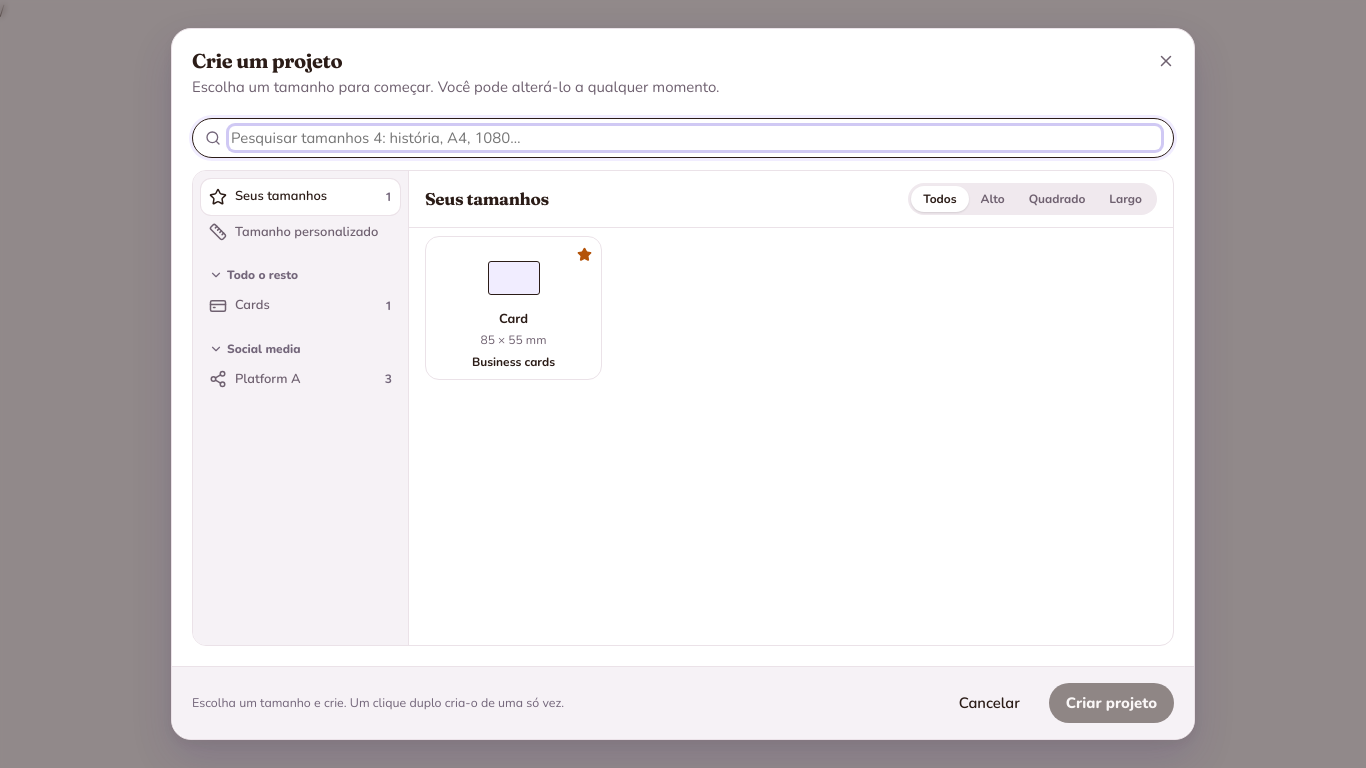
Test case: Create a design dialog › creates the chosen size, and remembers a folded section
The image size is (1366, 768).
Expected: the button "Criar projeto" is disabled, [1049,683,1174,723]
Click the button "Card 85 × 55 mm Business cards" at point(514, 308), box [425,236,602,380]
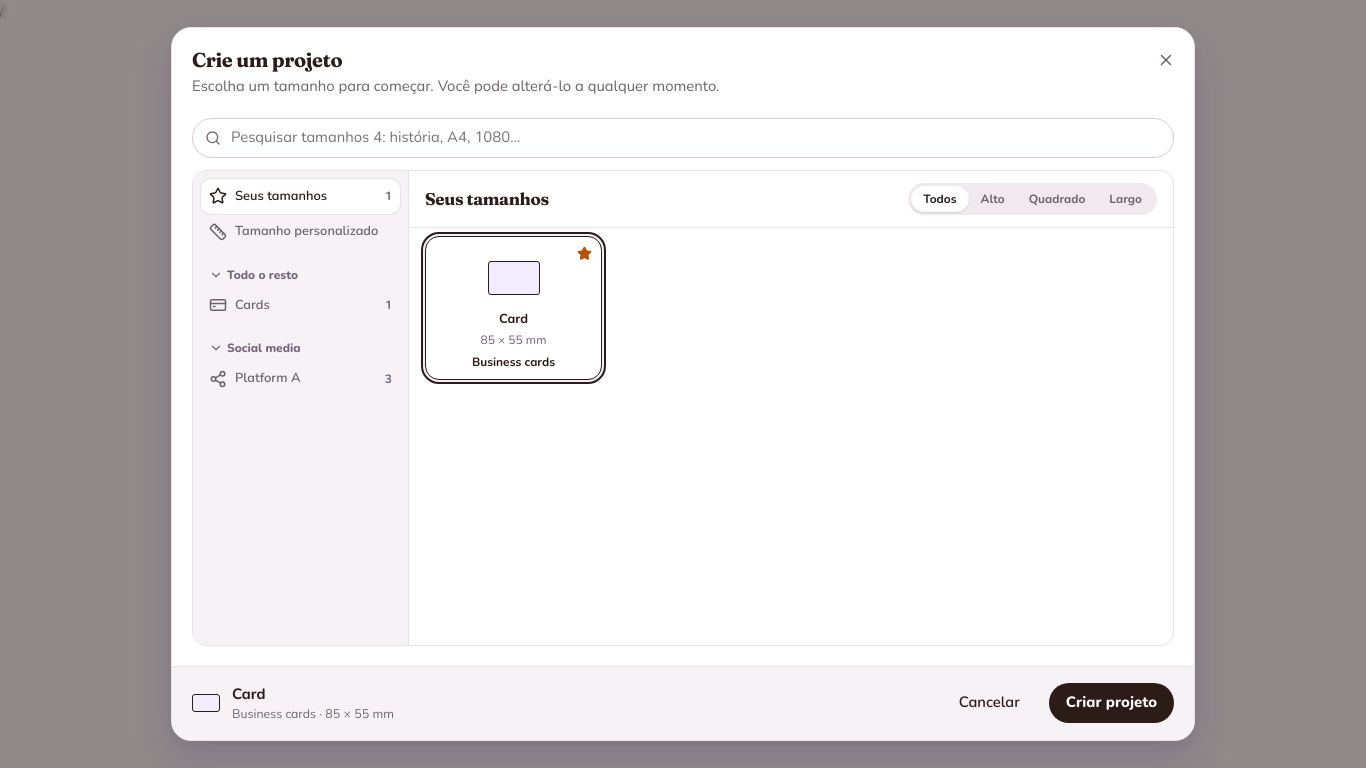
Click the button "Criar projeto" at point(1111, 703), box [1049,683,1174,723]
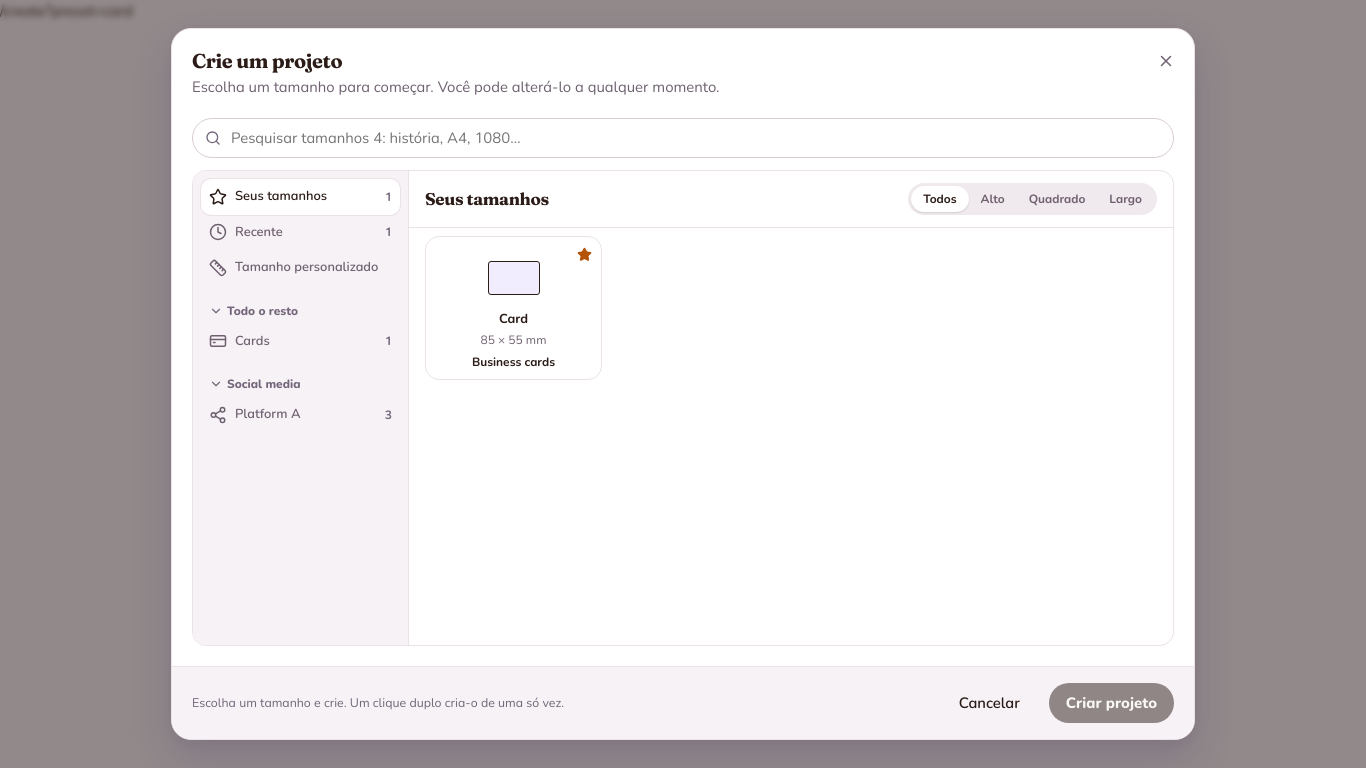
Result: the text with test id "location" reads "/create?preset=card" at [0,1,133,21]
Click the button "Social media" at point(300, 382), box [201,367,400,397]
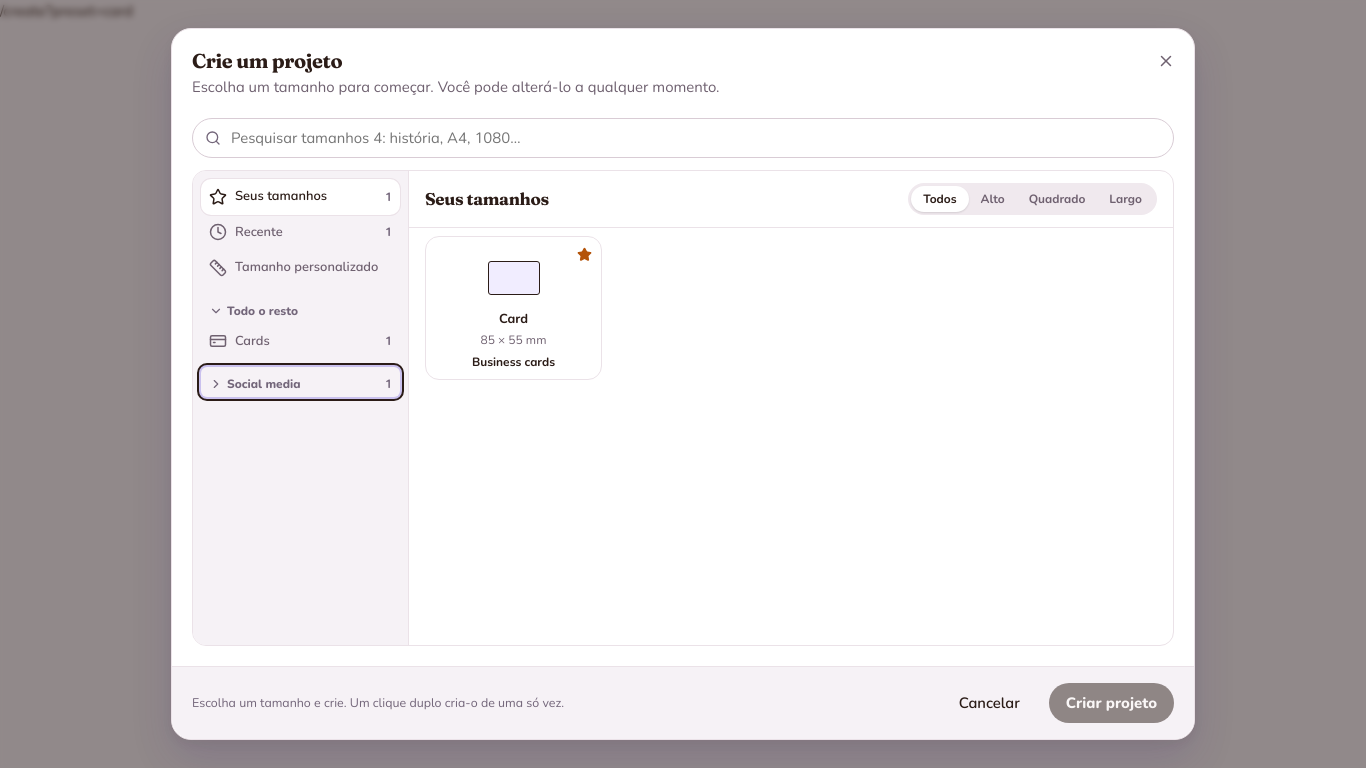
Result: the button "Platform A" is gone
